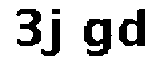3: (16, 8, 43, 49)
d: (116, 6, 149, 51)
g: (80, 12, 115, 60)
j: (41, 2, 68, 60)
